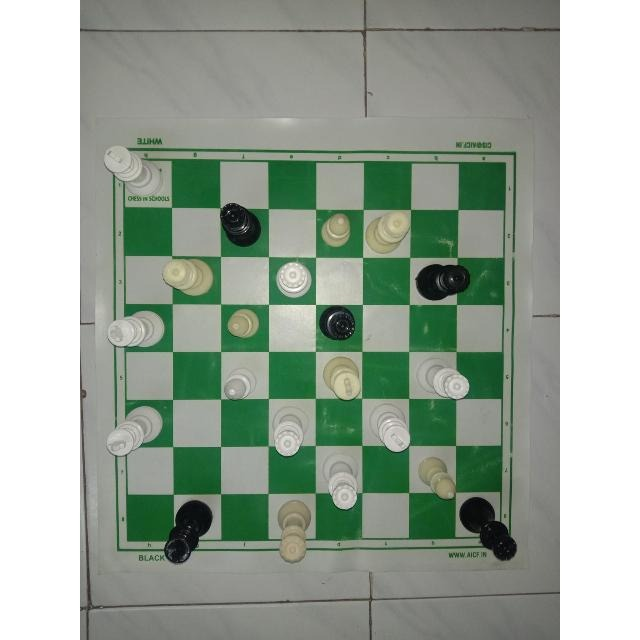black-king: (160, 496, 218, 569)
black-queen: (456, 495, 519, 565), (414, 257, 471, 309), (316, 302, 368, 350), (218, 198, 265, 247)
white-bishop: (414, 449, 460, 511), (318, 206, 362, 256), (222, 359, 260, 406), (223, 306, 265, 346)
white-king: (100, 137, 168, 199), (103, 404, 165, 463), (100, 310, 172, 360), (365, 397, 414, 455), (321, 358, 362, 403)
white-queen: (367, 204, 423, 258), (159, 256, 219, 300), (322, 451, 362, 515), (415, 357, 473, 401), (278, 498, 314, 565), (270, 404, 312, 458), (270, 258, 316, 300)
